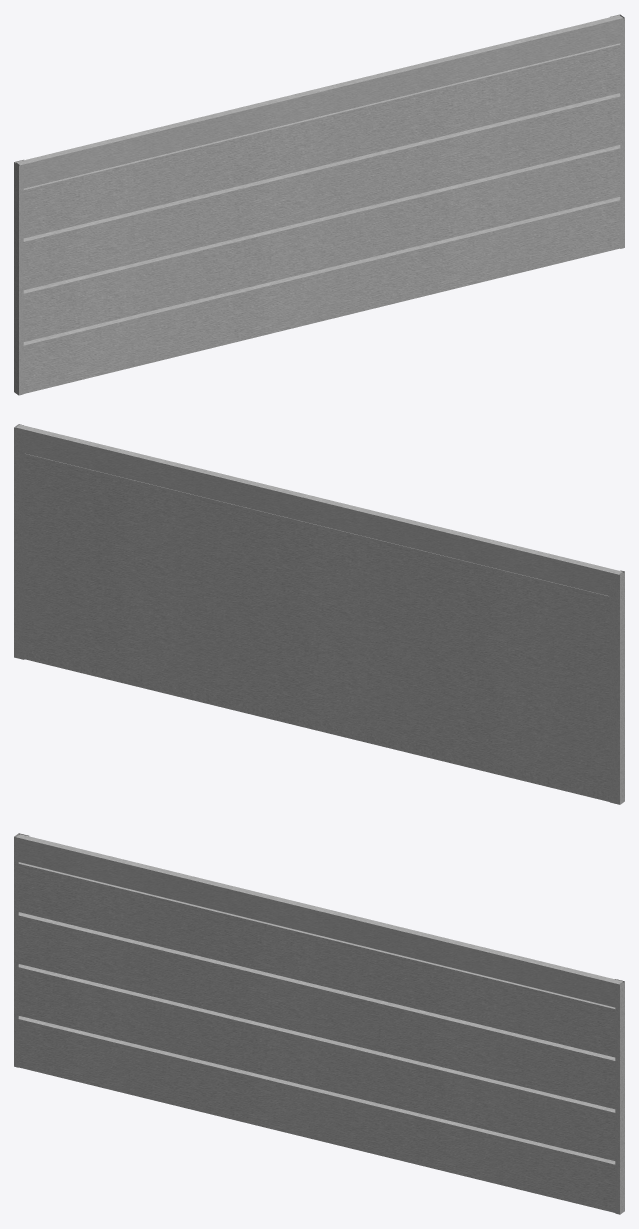
The model's file is backSlashAl60.glb.
The picture shows the model from 3 angles, top to bottom: view 1: azimuth 30°, elevation 25°; view 2: azimuth 150°, elevation 25°; view 3: azimuth 330°, elevation 25°; orthographic projection.
Visible parts, largest first — view 1: backsplashAlu80; view 2: backsplashAlu80; view 3: backsplashAlu80.
Boxes of the visible parts, <box> form: backsplashAlu80: <box>14,14,624,395</box>; backsplashAlu80: <box>14,424,624,804</box>; backsplashAlu80: <box>14,833,624,1214</box>.
Bounding box in the file's own units: 1.52 × 0.5532 × 0.0215.
Materials: 2 (1 with a texture image).
